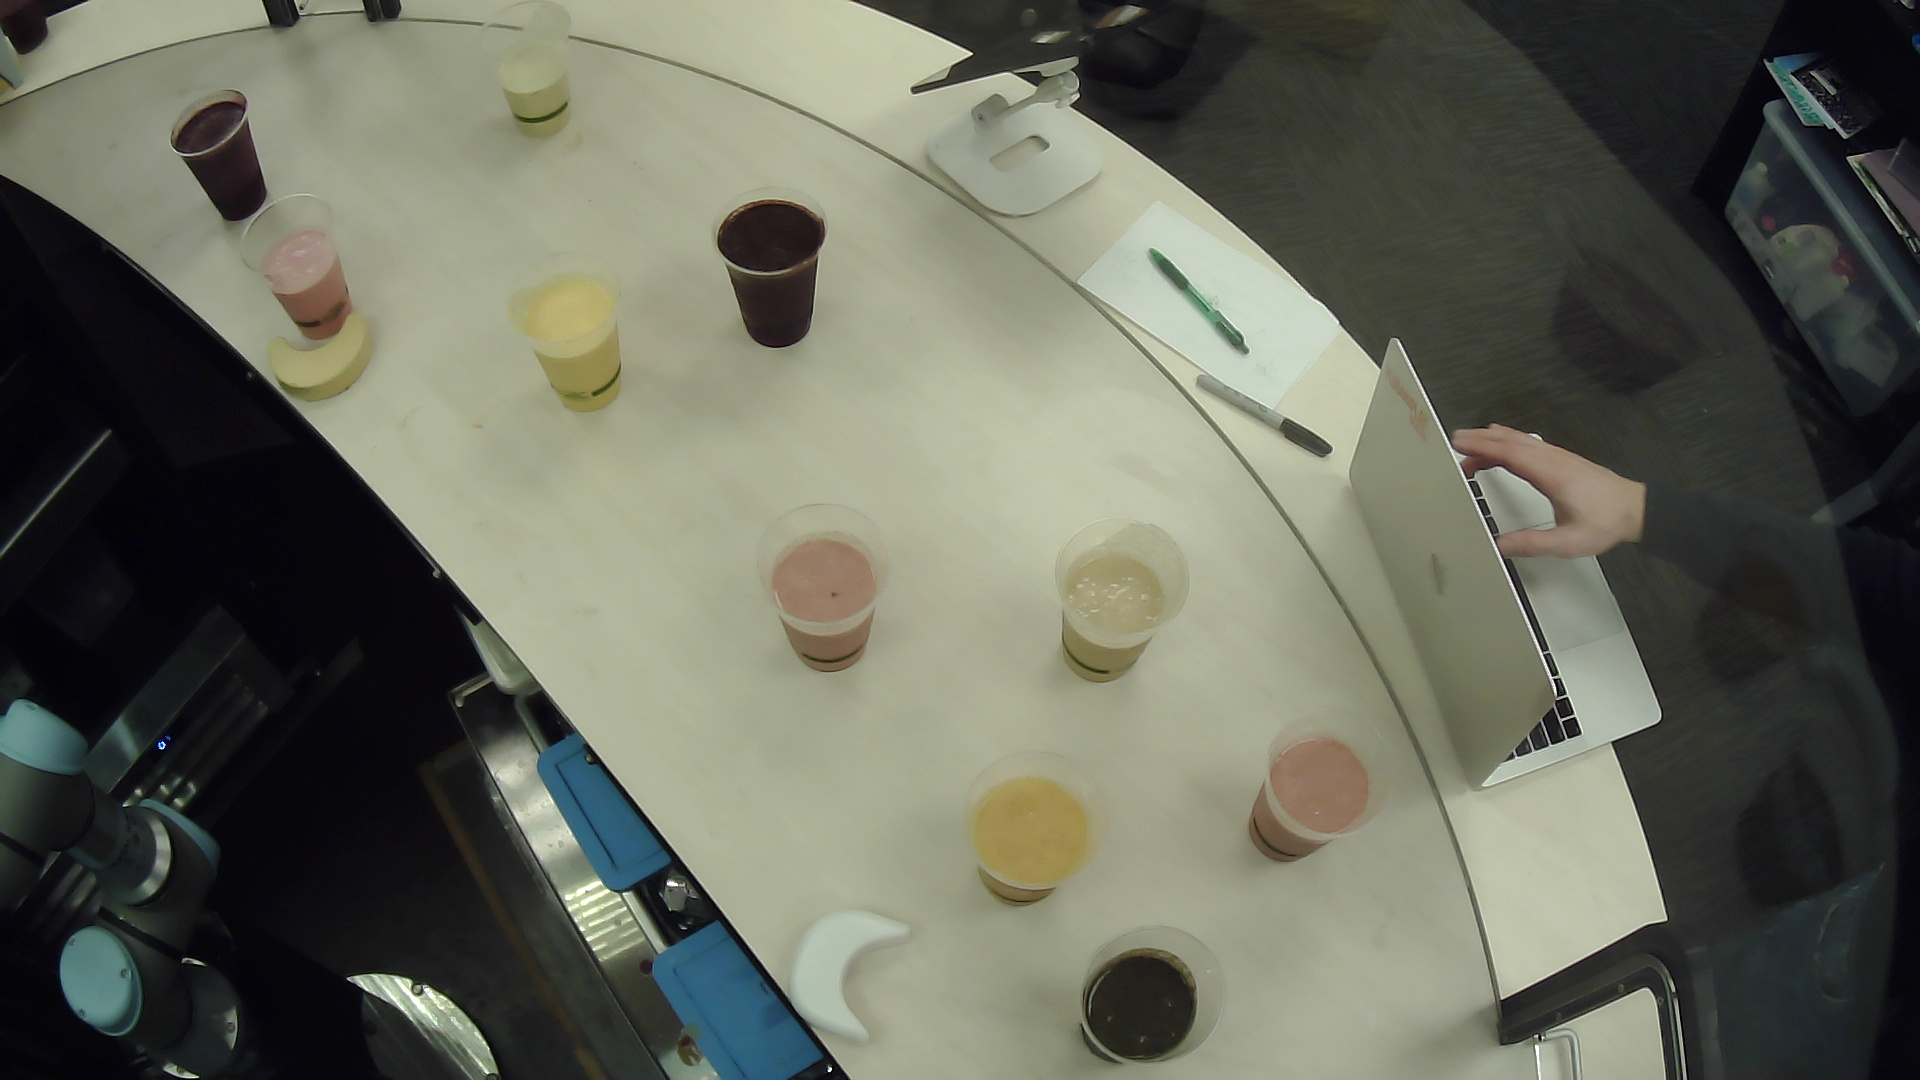Deliver: (775, 898, 935, 1050), (251, 295, 394, 400)
Full_cup: (1043, 502, 1208, 705), (742, 479, 889, 694), (1226, 702, 1404, 872), (1065, 905, 1241, 1076), (495, 247, 658, 429), (702, 173, 847, 372), (960, 750, 1121, 924), (228, 187, 378, 357), (463, 1, 601, 153), (156, 80, 282, 240)
